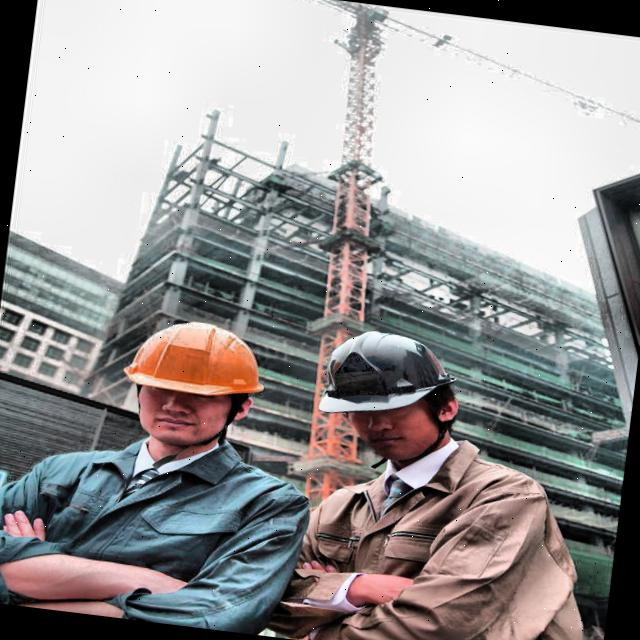helmet: (86, 293, 286, 472), (299, 312, 477, 470)
